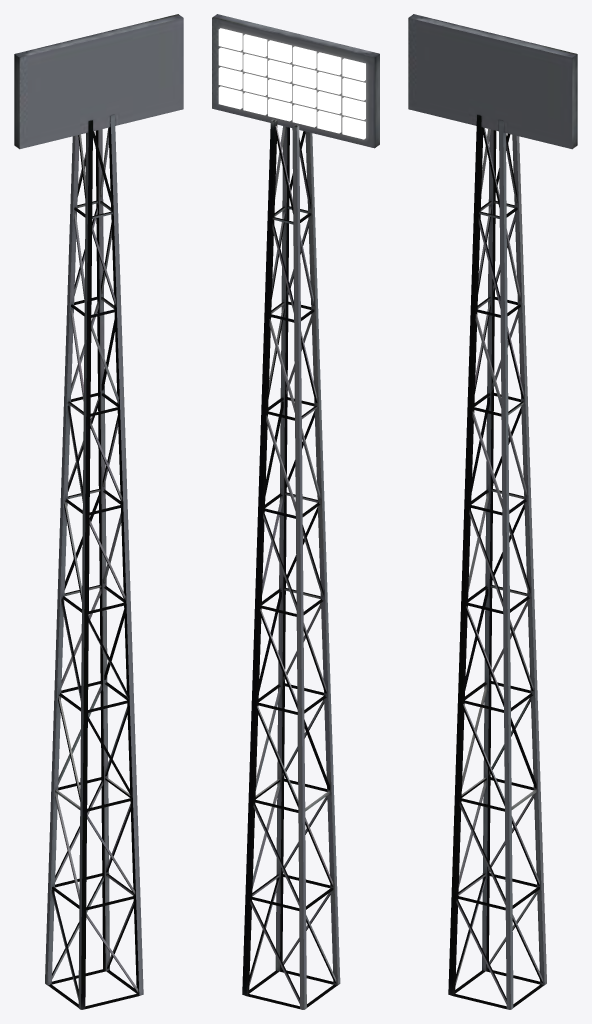
The model's file is floodlight.glb.
3 renders of one model, left to right at view 1: azimuth 30°, elevation 25°; view 2: azimuth 150°, elevation 25°; view 3: azimuth 330°, elevation 25°, orthographic.
Visible parts, largest first — view 1: floodlight; view 2: floodlight; view 3: floodlight.
Part boxes in pixels (x1,y1,x2,y2): floodlight: [14, 14, 183, 1009]; floodlight: [212, 14, 379, 1009]; floodlight: [408, 14, 577, 1009].
Bounding box in the file's own units: 9 × 50.25 × 3.44.
2 materials, 1 textured.
